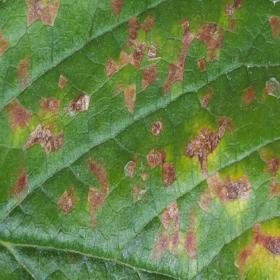Angular Leafspot: (0, 0, 279, 279)
